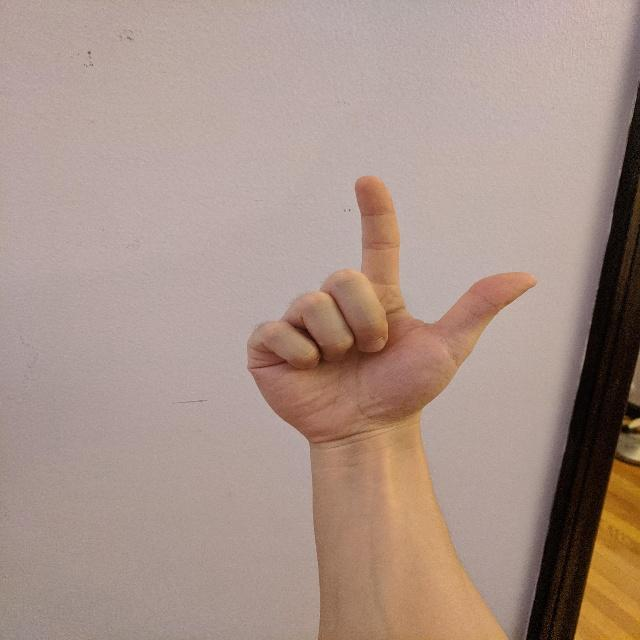L: (240, 170, 542, 447)
